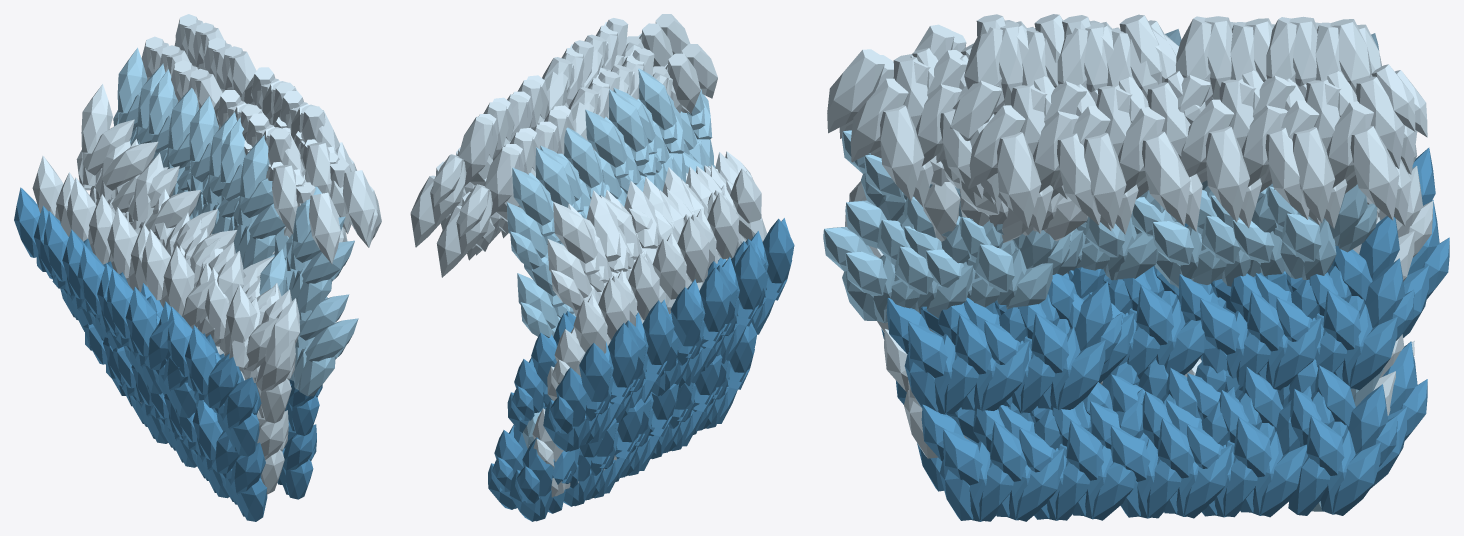
Rendered from glacier_wall.glb.
3 renders of one model, left to right at view 1: azimuth 30°, elevation 25°; view 2: azimuth 150°, elevation 25°; view 3: azimuth 270°, elevation 25°, orthographic. The views are drawn at different scales.
Visible parts, largest first — view 1: Gem.382, Gem.001, Gem.191, Gem; view 2: Gem.382, Gem.001, Gem.191, Gem; view 3: Gem, Gem.382, Gem.191, Gem.001.
Boxes of the visible parts, x1=… form: Gem.382: x1=32, y1=14, x2=381, y2=494; Gem.001: x1=14, y1=187, x2=267, y2=521; Gem.191: x1=113, y1=47, x2=358, y2=396; Gem: x1=277, y1=379, x2=322, y2=499; Gem.382: x1=410, y1=14, x2=767, y2=497; Gem.001: x1=509, y1=218, x2=794, y2=521; Gem.191: x1=506, y1=68, x2=715, y2=448; Gem: x1=488, y1=311, x2=575, y2=509; Gem: x1=886, y1=216, x2=1414, y2=521; Gem.382: x1=827, y1=14, x2=1433, y2=458; Gem.191: x1=823, y1=29, x2=1383, y2=511; Gem.001: x1=881, y1=147, x2=1449, y2=491.
Size of the model in its own units: 17.56 by 29.14 by 31.43.
